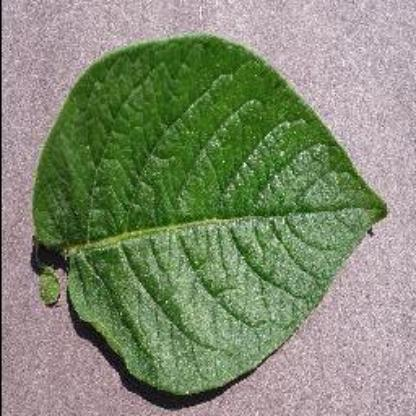Healthy-plant: (35, 36, 388, 402)
